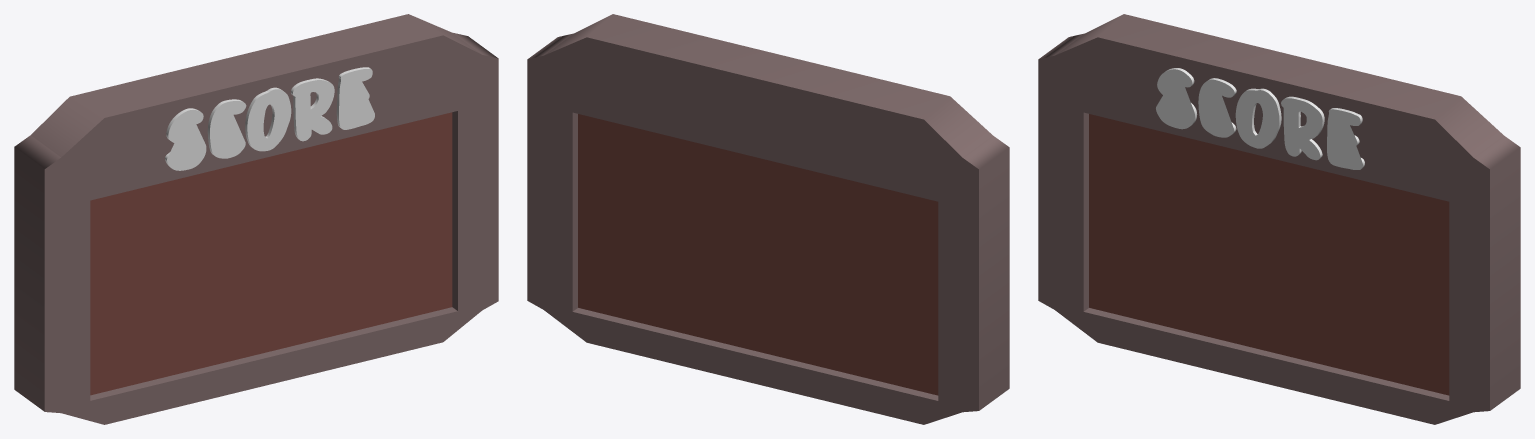
File: score2.fbx
3 views of the same model, side by side, from view 1: azimuth 30°, elevation 25°; view 2: azimuth 150°, elevation 25°; view 3: azimuth 330°, elevation 25° (orthographic).
Visible parts, largest first — view 1: polySurface9; view 2: polySurface9; view 3: polySurface9.
Boxes of the visible parts, left/top/right/bottom form: polySurface9: left=14, top=14, right=498, bottom=424; polySurface9: left=527, top=14, right=1009, bottom=424; polySurface9: left=1038, top=14, right=1520, bottom=424.
Bounding box in the file's own units: 4.78 × 3.09 × 0.597.
